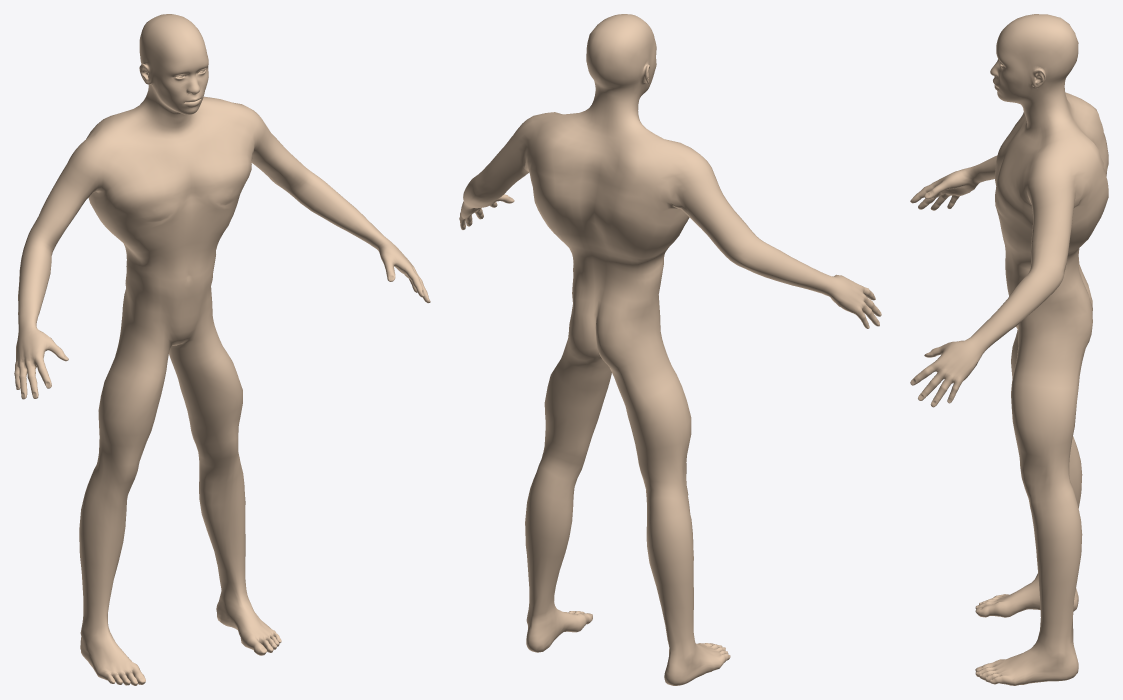
File: male_InvertedTriangle.glb
The picture shows the model from 3 angles, left to right: view 1: azimuth 30°, elevation 25°; view 2: azimuth 150°, elevation 25°; view 3: azimuth 270°, elevation 25°; orthographic projection.
Visible parts, largest first — view 1: male_InvertedTriangle; view 2: male_InvertedTriangle; view 3: male_InvertedTriangle.
Part boxes in pixels (bbox=[...]): male_InvertedTriangle: bbox=[14, 14, 430, 685]; male_InvertedTriangle: bbox=[459, 14, 881, 685]; male_InvertedTriangle: bbox=[910, 14, 1108, 685].
Size of the model in its own units: 1.17 by 1.73 by 0.4944.
